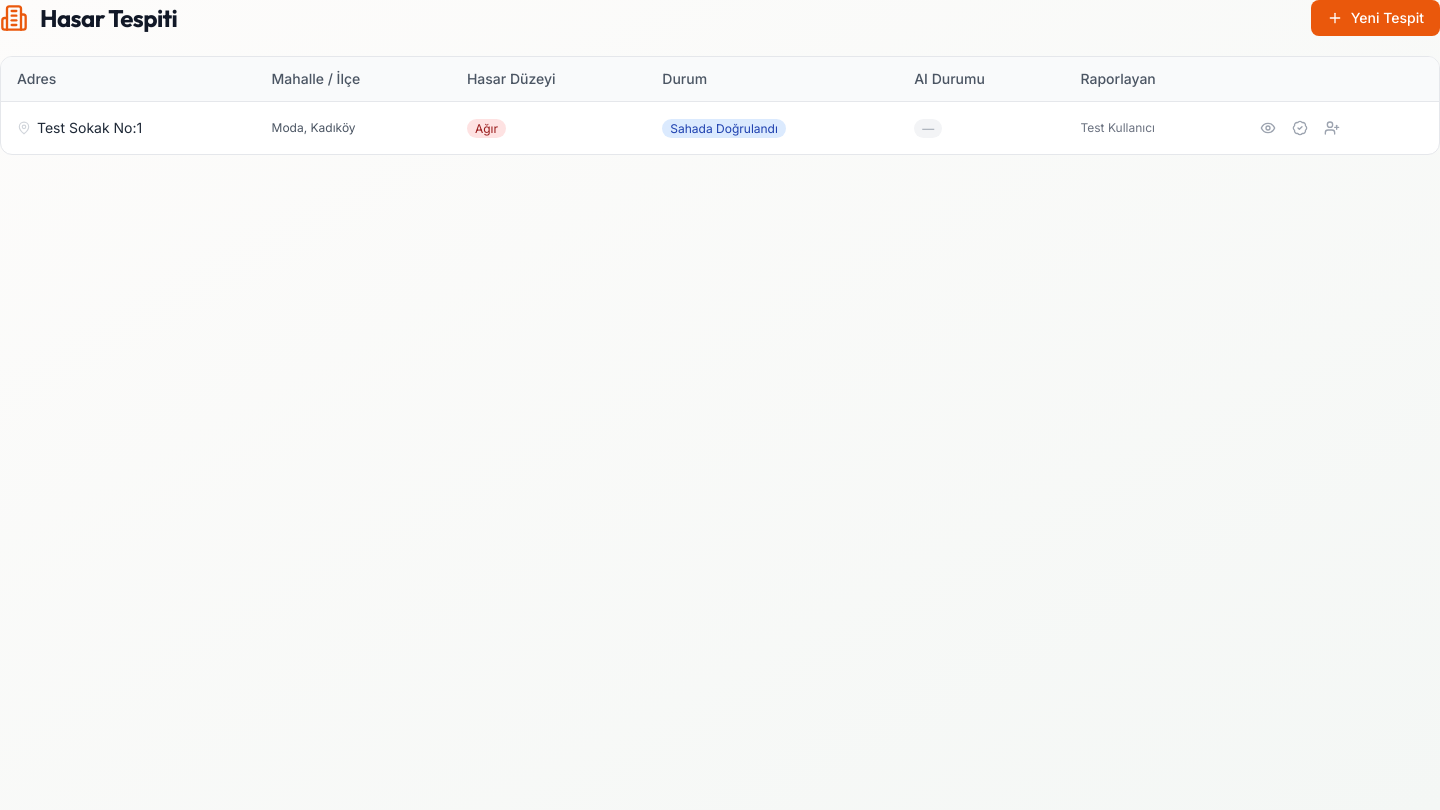
Test case: DamageAssessmentsPage (post-refactor) › opens the verify modal (DamageAssessmentVerification) from the row action
The width and height of the screenshot is (1440, 810).
Expected: the text "Test Sokak No:1" is shown, [37,118,142,138]
Click the button named "durumu güncelle": (1300, 128) [1286,114,1314,142]
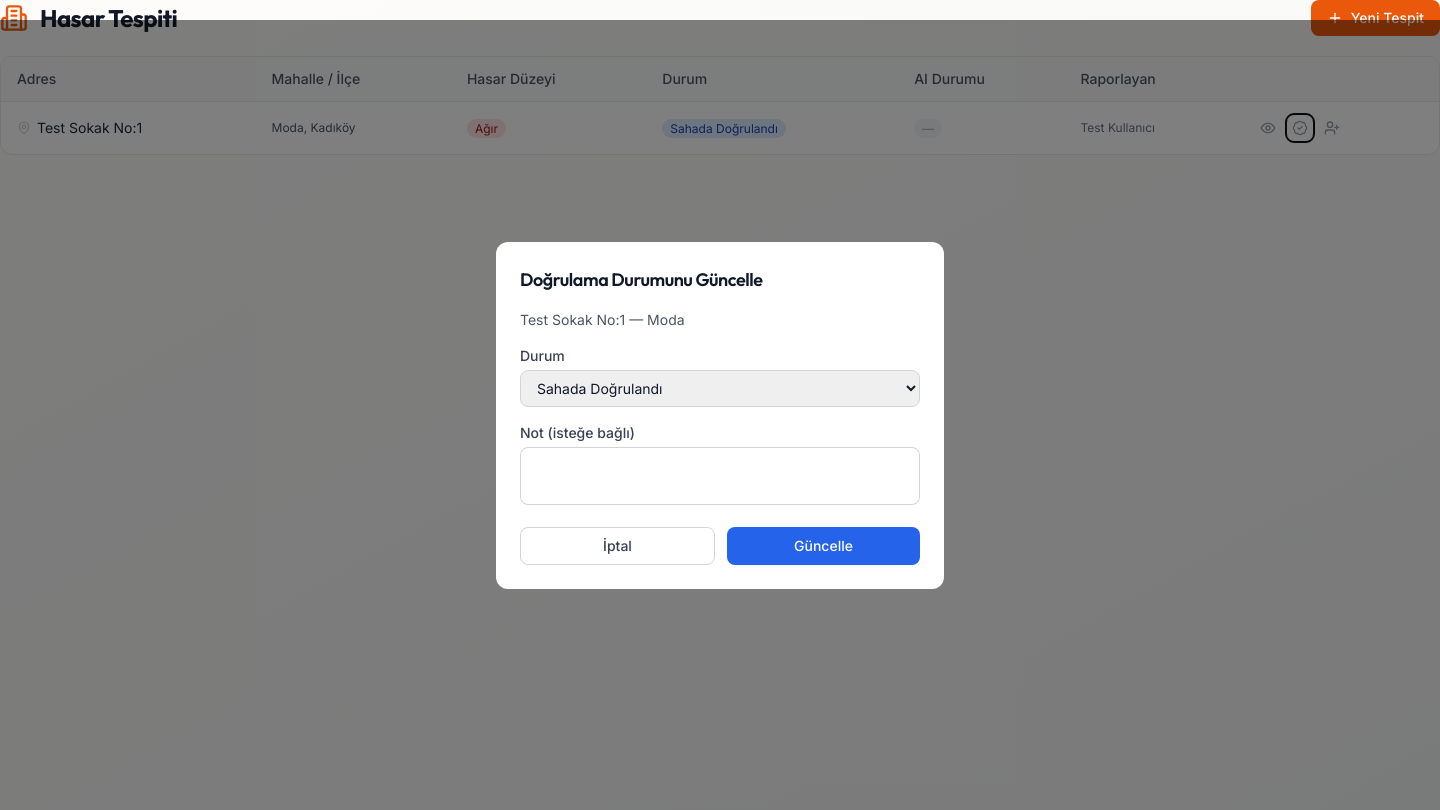
Expected: the heading "Doğrulama Durumunu Güncelle" is shown, [520,268,762,290]
